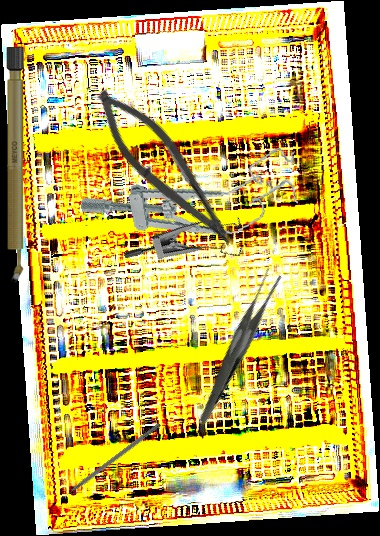Dressing Forceps: (159, 265, 316, 425)
Hook Surgical: (52, 421, 162, 507)
Micro Scissor: (78, 77, 255, 257)
Scalpel Handle: (6, 47, 24, 283)
Speculum: (77, 145, 307, 259), (122, 196, 255, 304)
